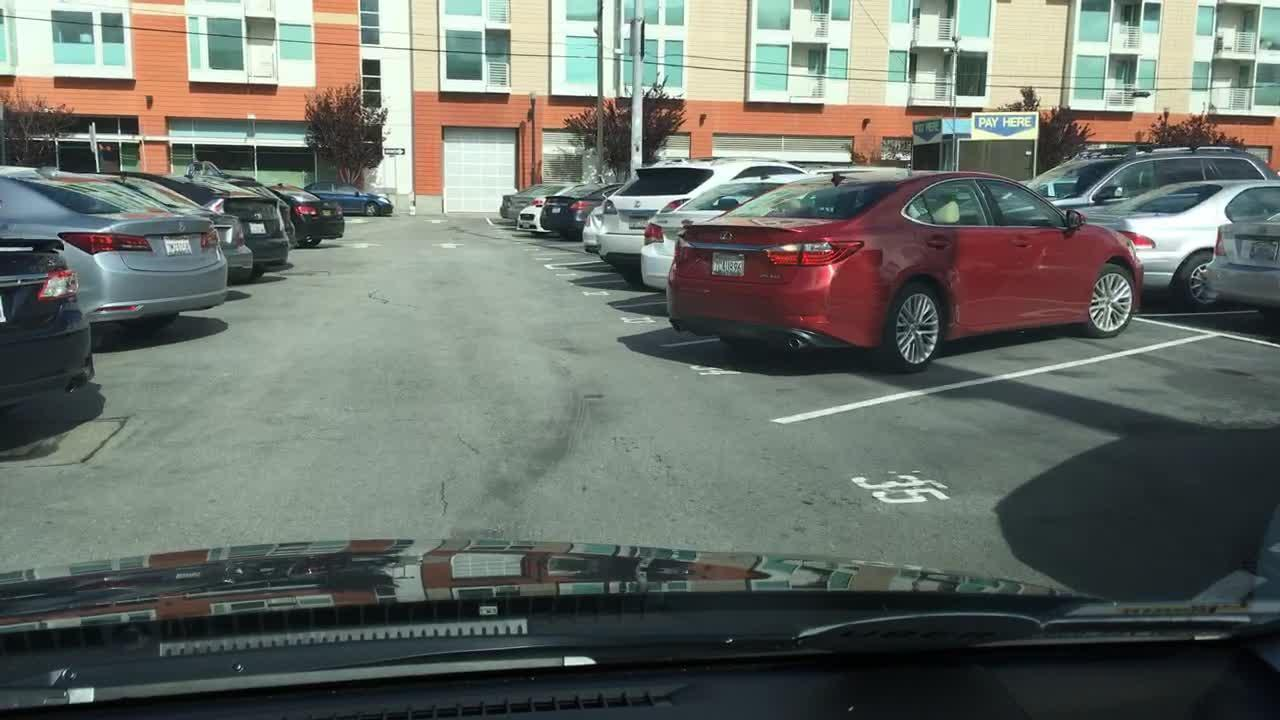chevrolet: (679, 217, 695, 229)
lexus: (708, 224, 741, 245)
